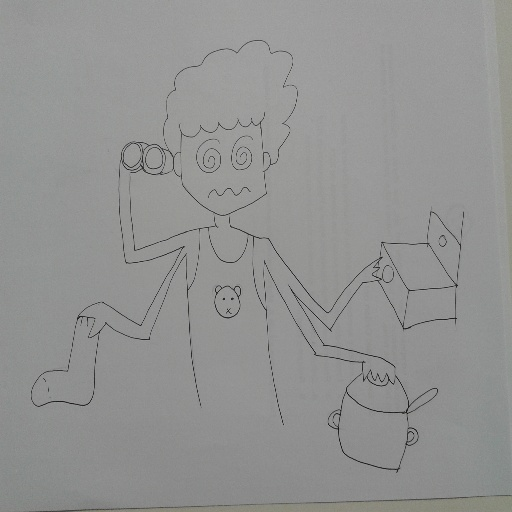hand: (77, 301, 106, 337), (360, 354, 395, 382), (119, 141, 147, 173), (363, 257, 382, 281)
